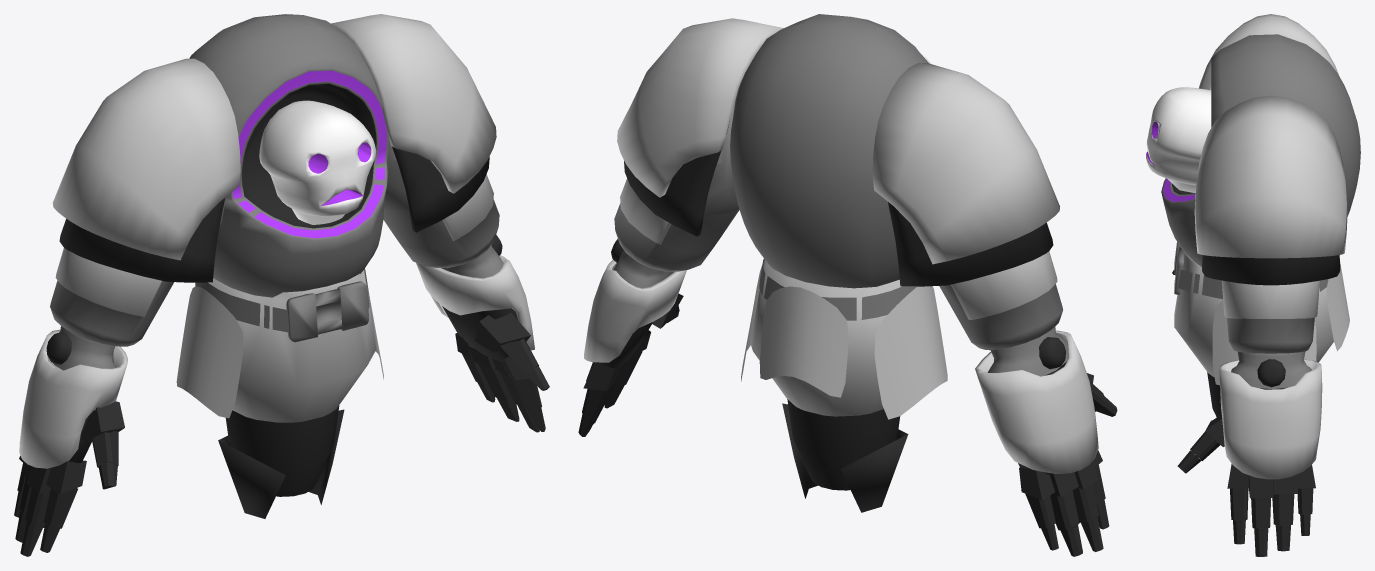
Rendered from Player_Test.fbx.
The picture shows the model from 3 angles, left to right: view 1: azimuth 30°, elevation 25°; view 2: azimuth 150°, elevation 25°; view 3: azimuth 270°, elevation 25°; orthographic projection. The views are drawn at different scales.
Parts seen in each view (by area): view 1: Body_LP.001; view 2: Body_LP.001; view 3: Body_LP.001.
Part boxes in pixels (x1,y1,x2,y2): Body_LP.001: (14, 14, 549, 556); Body_LP.001: (578, 14, 1117, 556); Body_LP.001: (1146, 14, 1360, 556).
Bounding box in the file's own units: 4.72 × 4.17 × 1.96.
